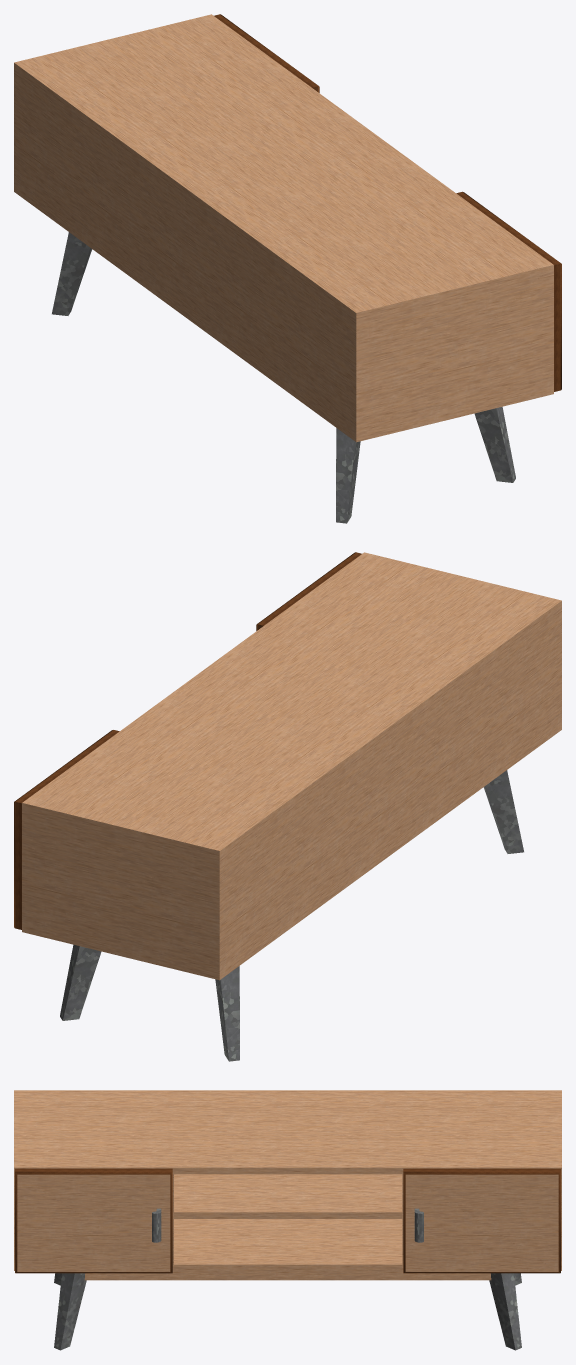
Rendered from komoda2.fbx.
The picture shows the model from 3 angles, top to bottom: view 1: azimuth 30°, elevation 25°; view 2: azimuth 150°, elevation 25°; view 3: azimuth 270°, elevation 25°; orthographic projection. The views are drawn at different scales.
Visible parts, largest first — view 1: komoda_02.004, komoda_02.005, komoda_02.003; view 2: komoda_02.004, komoda_02.005, komoda_02.003; view 3: komoda_02.004, komoda_02.005, komoda_02.003.
Part boxes in pixels (<box>): komoda_02.004: <box>14,14,553,442</box>; komoda_02.005: <box>52,232,515,523</box>; komoda_02.003: <box>214,14,561,391</box>; komoda_02.004: <box>22,552,561,980</box>; komoda_02.005: <box>60,770,523,1061</box>; komoda_02.003: <box>14,552,361,929</box>; komoda_02.004: <box>14,1090,561,1280</box>; komoda_02.005: <box>54,1208,521,1350</box>; komoda_02.003: <box>15,1168,560,1273</box>.
Bounding box in the file's own units: 1436 × 1452 × 3872.
Materials: 3 (3 with a texture image).
